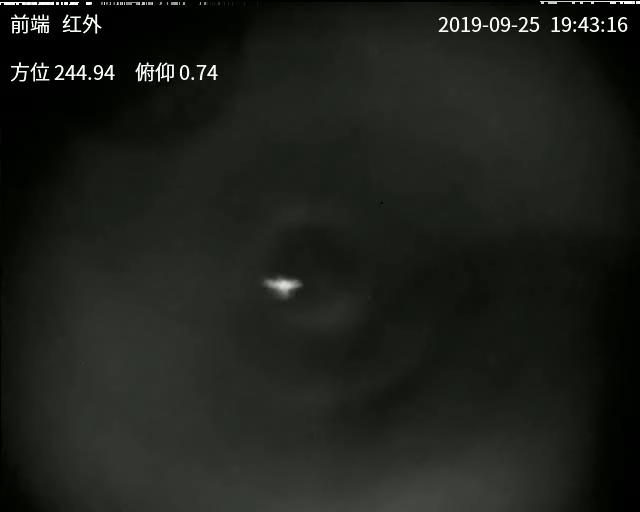uav: (262, 273, 304, 302)
